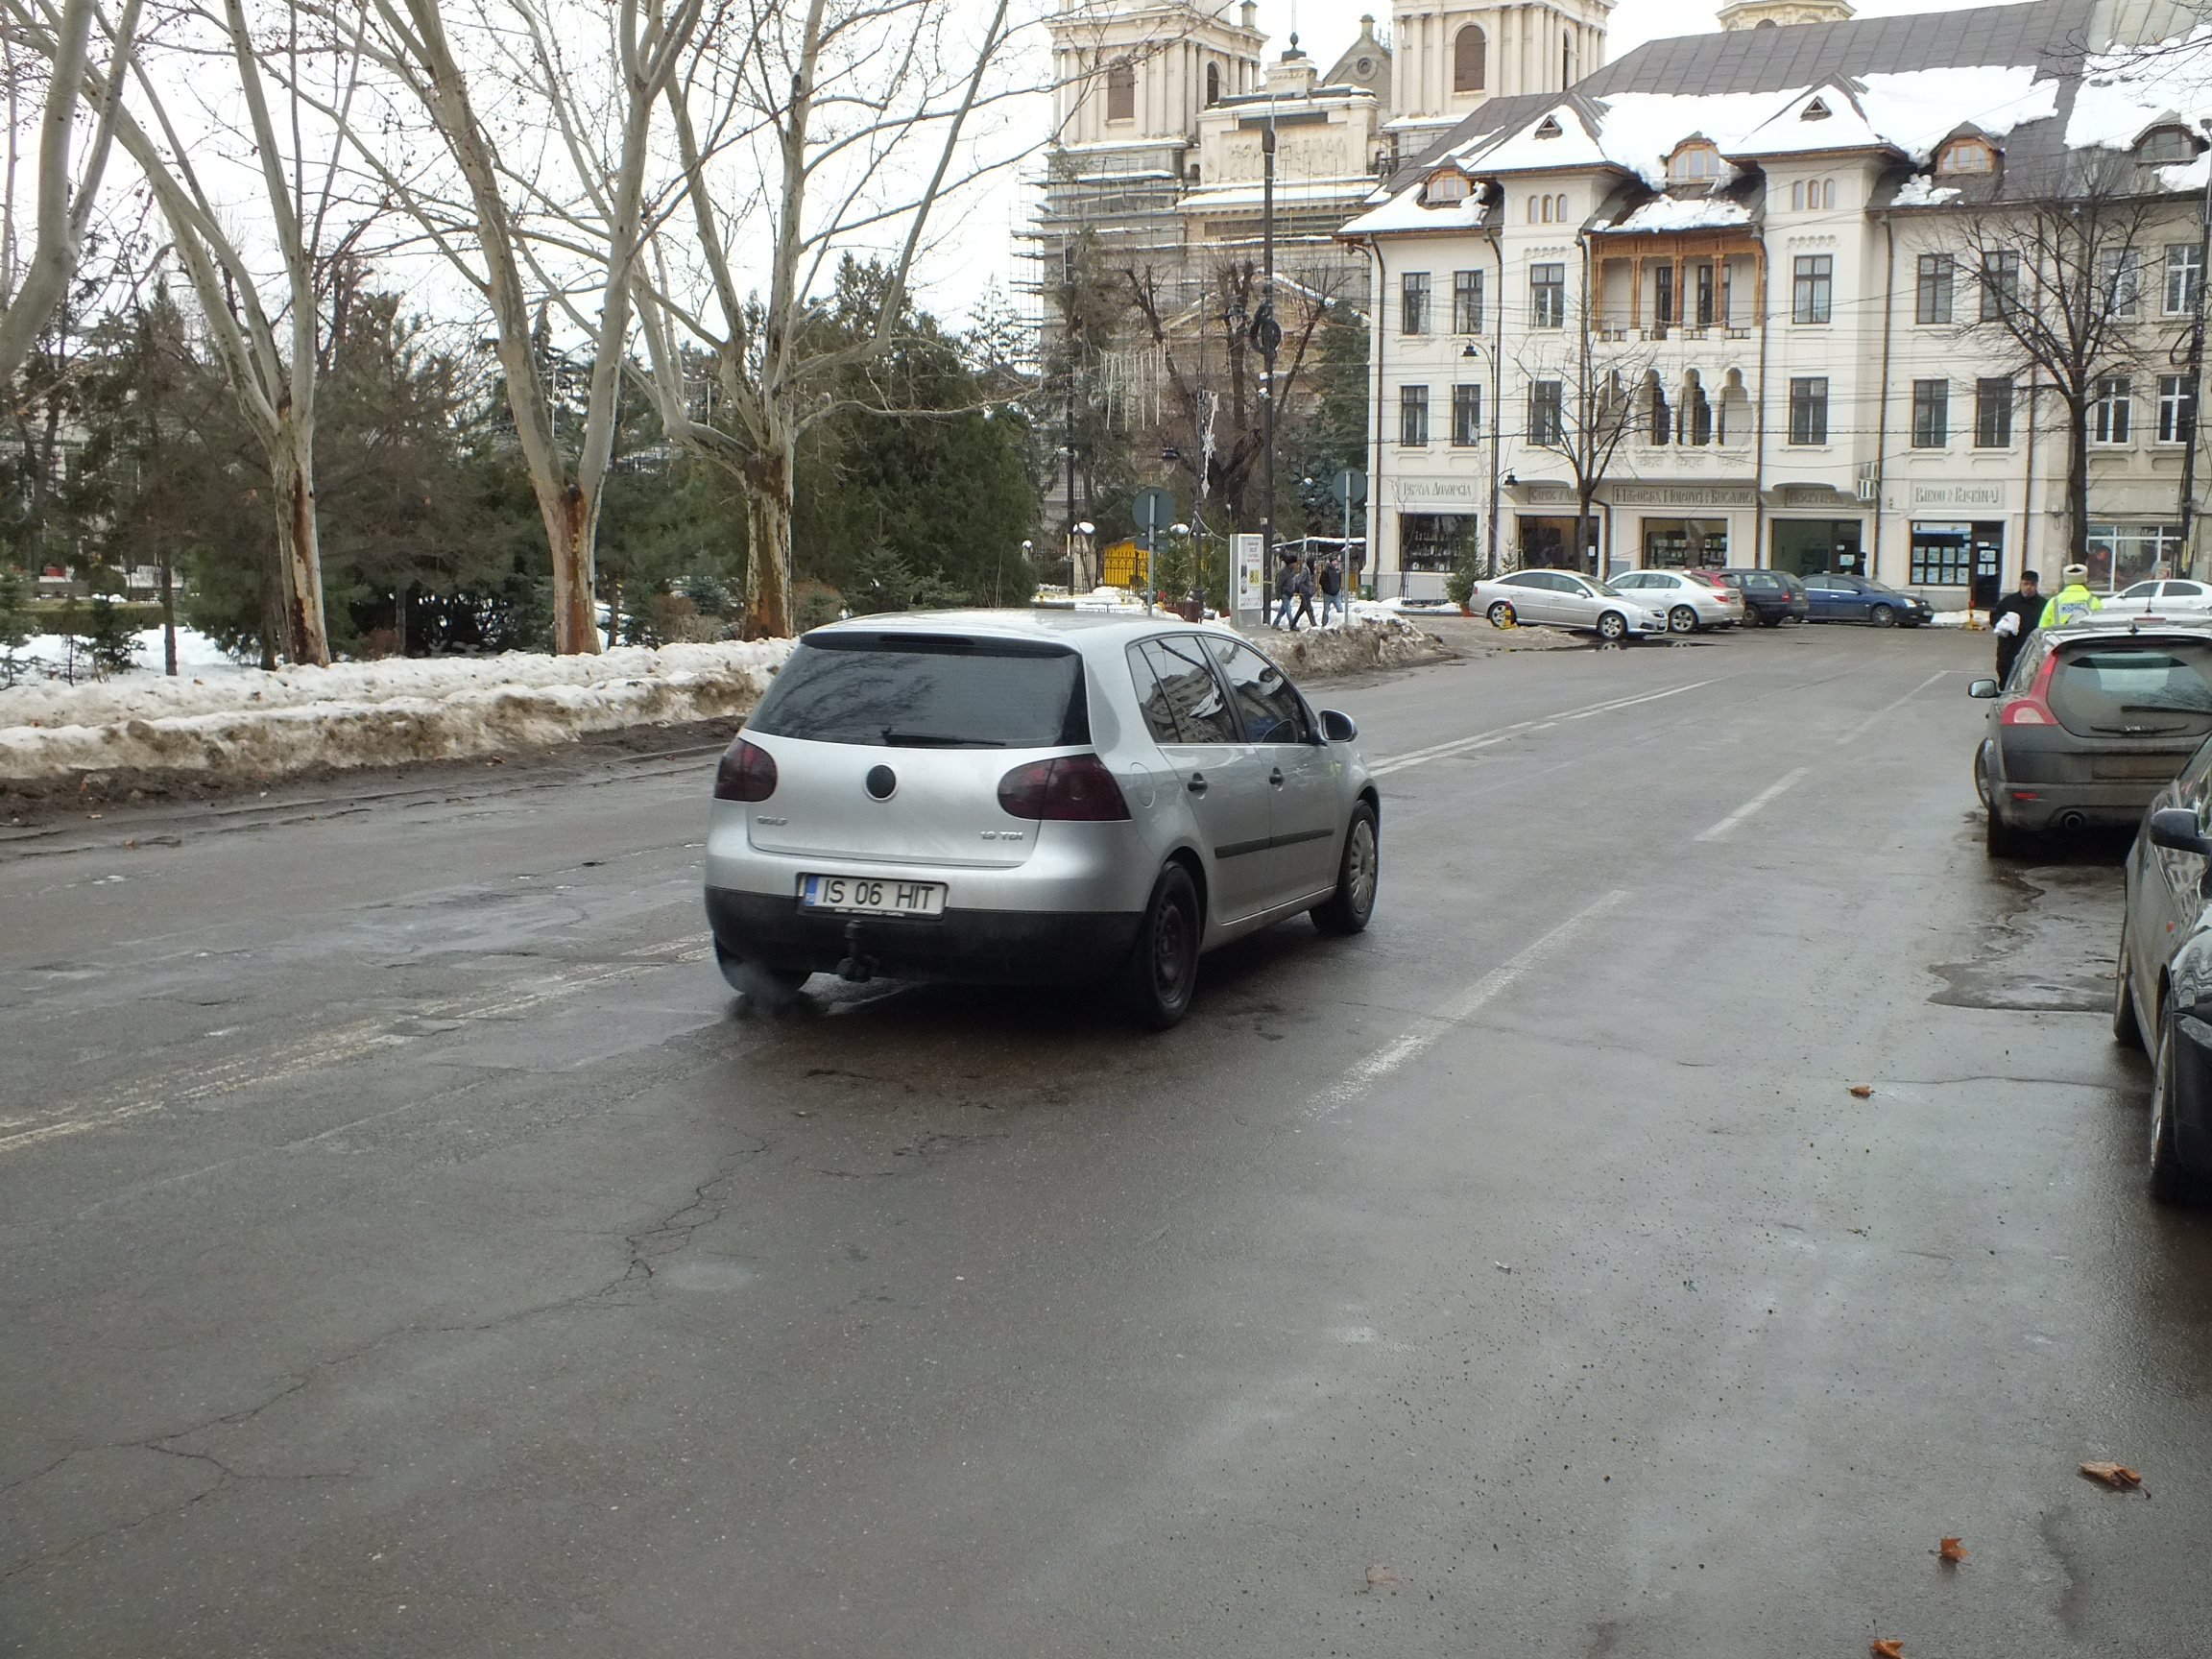IS06HIT: (801, 878, 935, 912)
